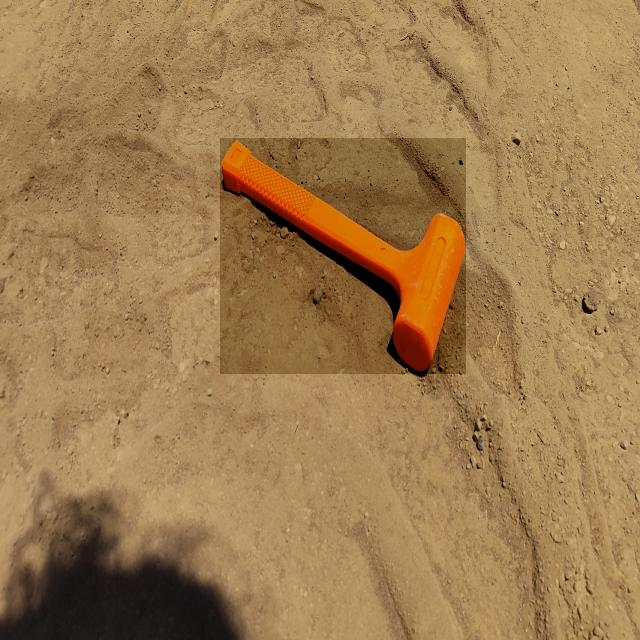Orange_hammer: (220, 138, 466, 374)
